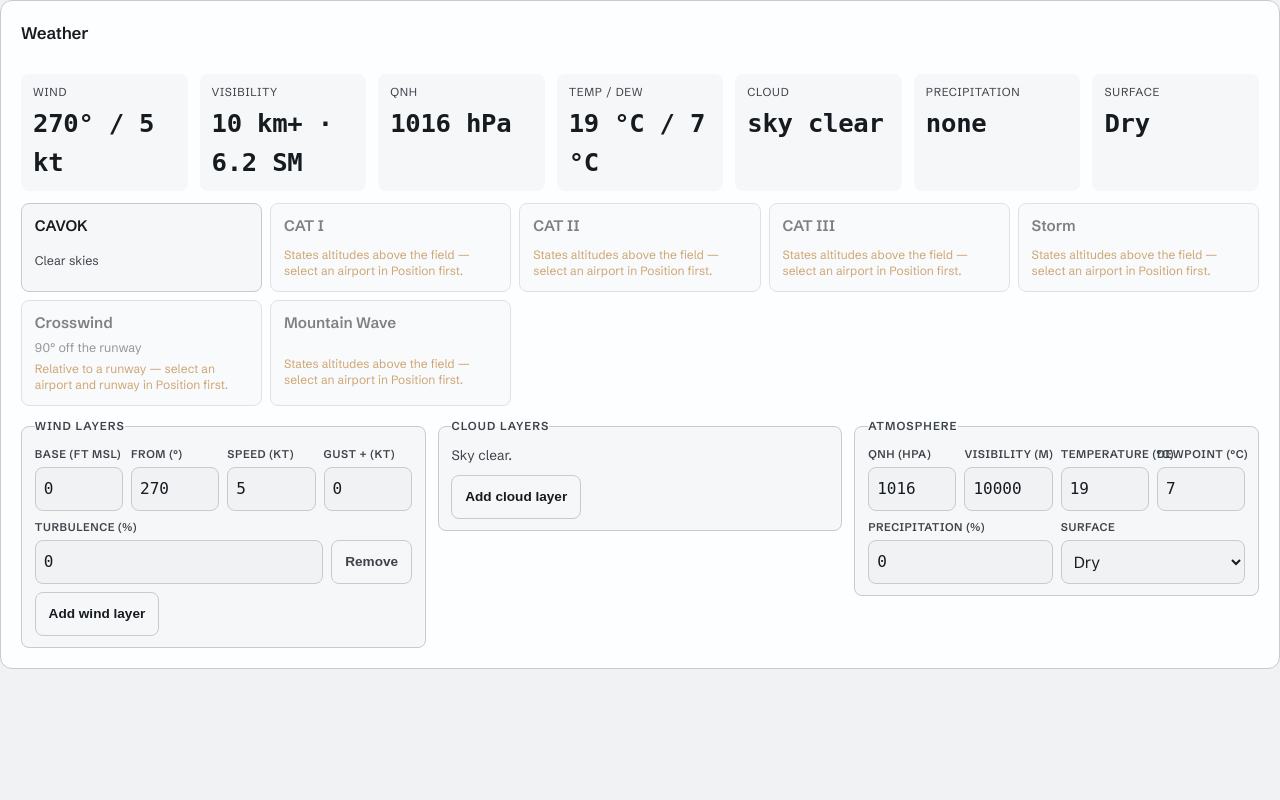
WeatherPanel › stages on the first tap and previews without moving anything
Click the button "CAVOK Clear skies": (142, 247) [21,203,262,292]
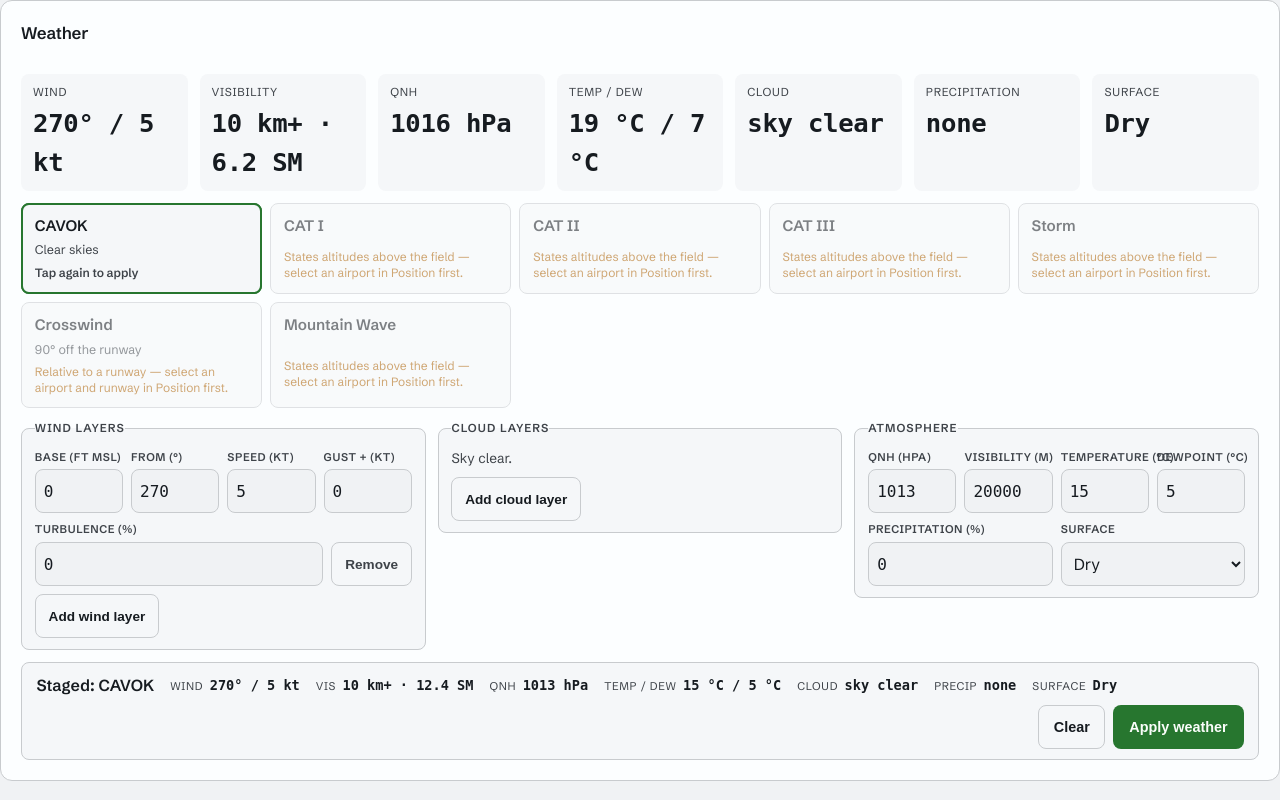
Expected: the text "Staged: CAVOK" is shown, [36,673,154,697]
Expected: the text "Tap again to apply" is shown, [35,265,138,280]
